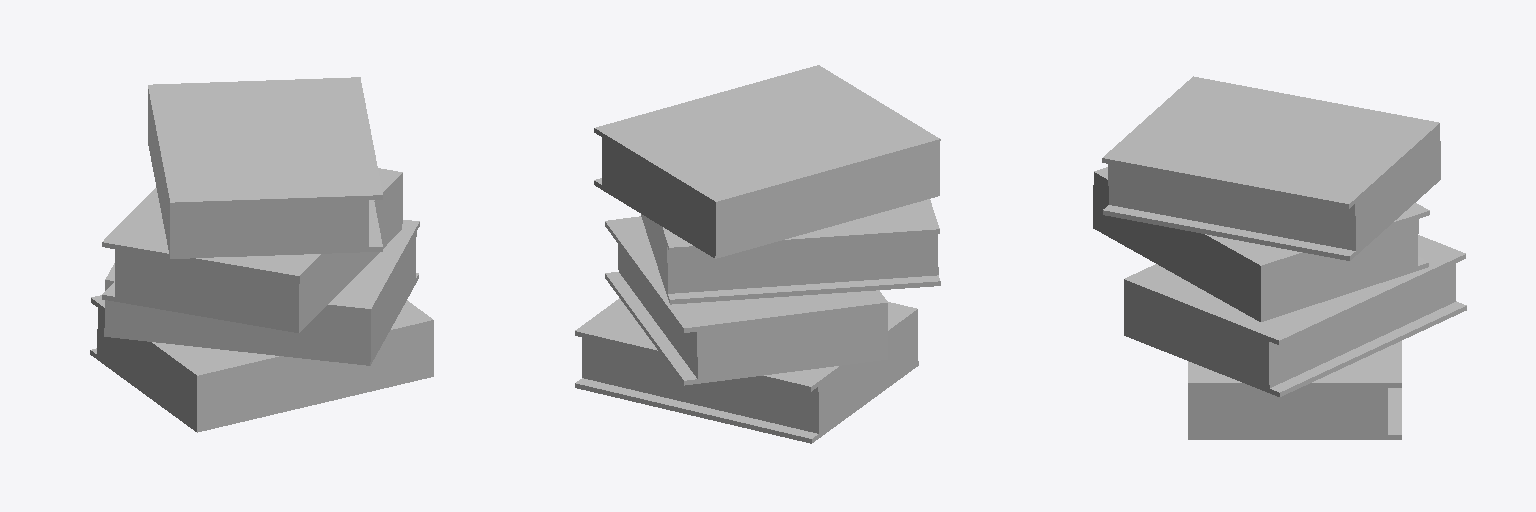
File: Book_Stack.obj
3 renders of one model, left to right at view 1: azimuth 30°, elevation 25°; view 2: azimuth 150°, elevation 25°; view 3: azimuth 270°, elevation 25°, orthographic.
Visible parts, largest first — view 1: Cube.003, Cube.001, Cube.002, Cube; view 2: Cube.003, Cube, Cube.001, Cube.002; view 3: Cube.003, Cube, Cube.002, Cube.001.
Boxes of the visible parts, <box> form: Cube.003: <box>148,77,382,258</box>; Cube.001: <box>90,295,433,432</box>; Cube.002: <box>102,168,402,332</box>; Cube: <box>104,220,419,365</box>; Cube.003: <box>594,65,940,258</box>; Cube: <box>605,216,887,385</box>; Cube.001: <box>575,298,918,443</box>; Cube.002: <box>641,199,940,304</box>; Cube.003: <box>1102,76,1440,260</box>; Cube: <box>1124,235,1466,396</box>; Cube.002: <box>1093,167,1429,321</box>; Cube.001: <box>1188,341,1401,439</box>.
Bounding box in the file's own units: 3.54 × 2.47 × 3.5.